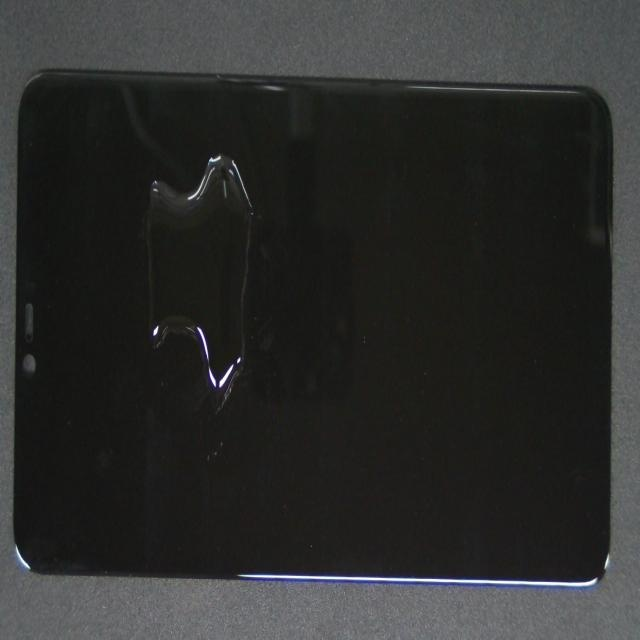oil: (147, 117, 364, 267)
